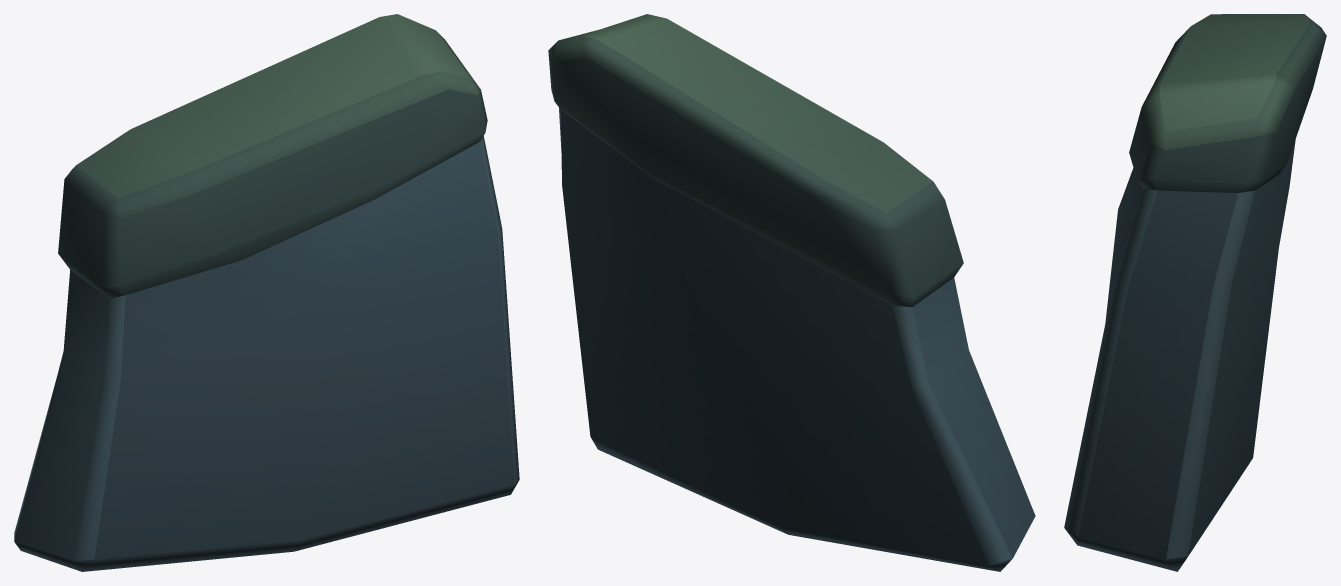
File: rock_large_grass_07.fbx
3 renders of one model, left to right at view 1: azimuth 30°, elevation 25°; view 2: azimuth 150°, elevation 25°; view 3: azimuth 270°, elevation 25°, orthographic. The views are drawn at different scales.
Parts seen in each view (by area): view 1: rock_large_grass_07; view 2: rock_large_grass_07; view 3: rock_large_grass_07.
Boxes of the visible parts, left/top/right/bottom form: rock_large_grass_07: left=14, top=14, right=519, bottom=571; rock_large_grass_07: left=548, top=14, right=1035, bottom=571; rock_large_grass_07: left=1064, top=14, right=1326, bottom=571.
Bounding box in the file's own units: 778 × 748 × 368.
